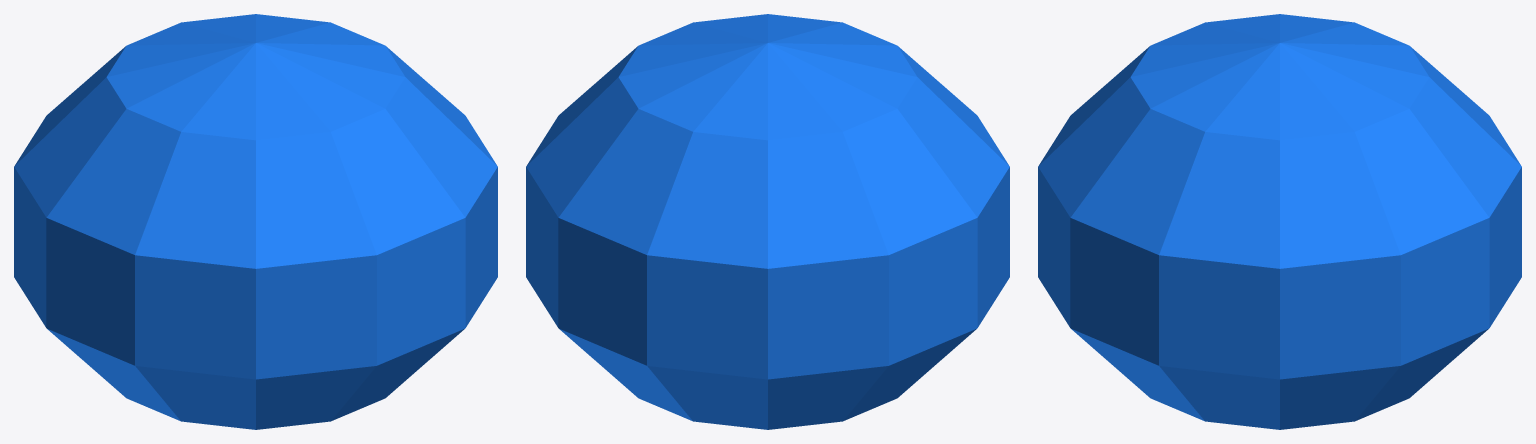
The model's file is sapphire.dae.
3 views of the same model, side by side, from view 1: azimuth 30°, elevation 25°; view 2: azimuth 150°, elevation 25°; view 3: azimuth 270°, elevation 25° (orthographic).
Parts seen in each view (by area): view 1: Sphere; view 2: Sphere; view 3: Sphere.
Part boxes in pixels (bbox=[...]): Sphere: bbox=[14, 14, 497, 429]; Sphere: bbox=[526, 14, 1009, 429]; Sphere: bbox=[1038, 14, 1521, 429].
Bounding box in the file's own units: 0.2681 × 0.2681 × 0.2189.
